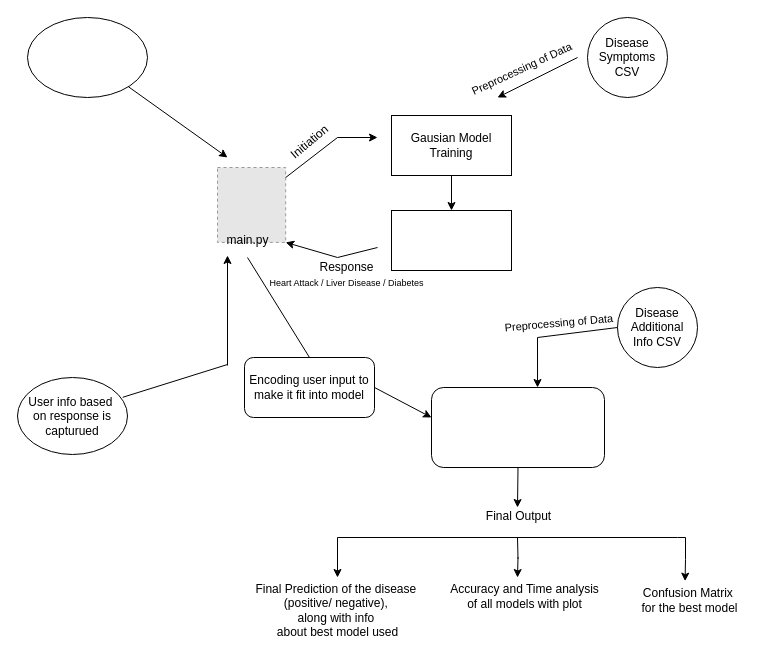
Some shapes in this 767 by 663 pixel diagram are drawn without their labels. Grey dashed boxes stand in for pictures. Each missing label, with the box of its shape:
Different Models trained on the correposnding disease info: (430, 386, 604, 468)
Model Prediction based on user Input: (390, 210, 512, 270)
Symptoms Input by user: (26, 16, 148, 98)
